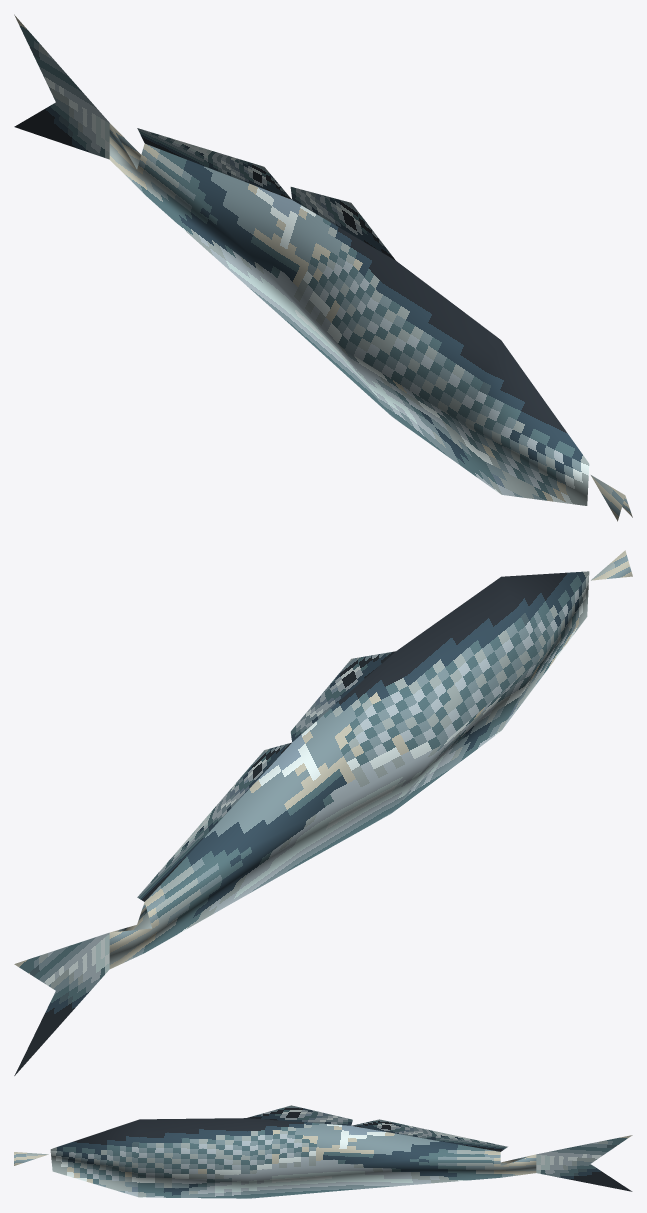
The picture shows the model from 3 angles, top to bottom: view 1: azimuth 30°, elevation 25°; view 2: azimuth 150°, elevation 25°; view 3: azimuth 270°, elevation 25°; orthographic projection. The views are drawn at different scales.
Parts seen in each view (by area): view 1: 4863fish73; view 2: 4863fish73; view 3: 4863fish73.
Part boxes in pixels (box(x1,y1,x2,y2)): 4863fish73: box(14, 14, 632, 521); 4863fish73: box(14, 550, 632, 1075); 4863fish73: box(14, 1105, 632, 1198).
Bounding box in the file's own units: 0.0718 × 0.1301 × 0.7827.
1 material, 1 textured.
